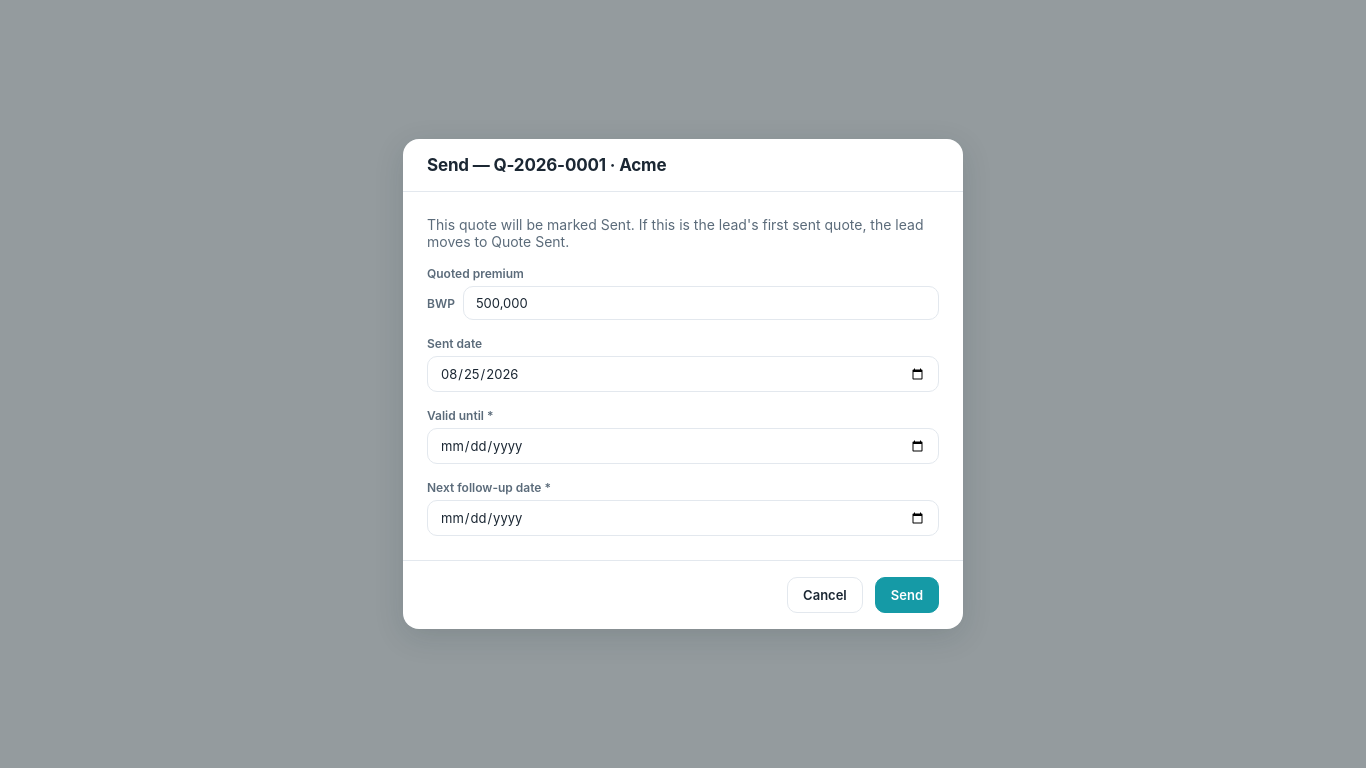
Test: SendQuoteDialog › click_WhenConfirmedWithoutValidUntilOrNextFollowUp_ShouldShowInlineErrorsAndNotConfirm
Click the button with test id "dialog-primary-button": {"x": 907, "y": 595} top-left (875, 577), bottom-right (939, 613)
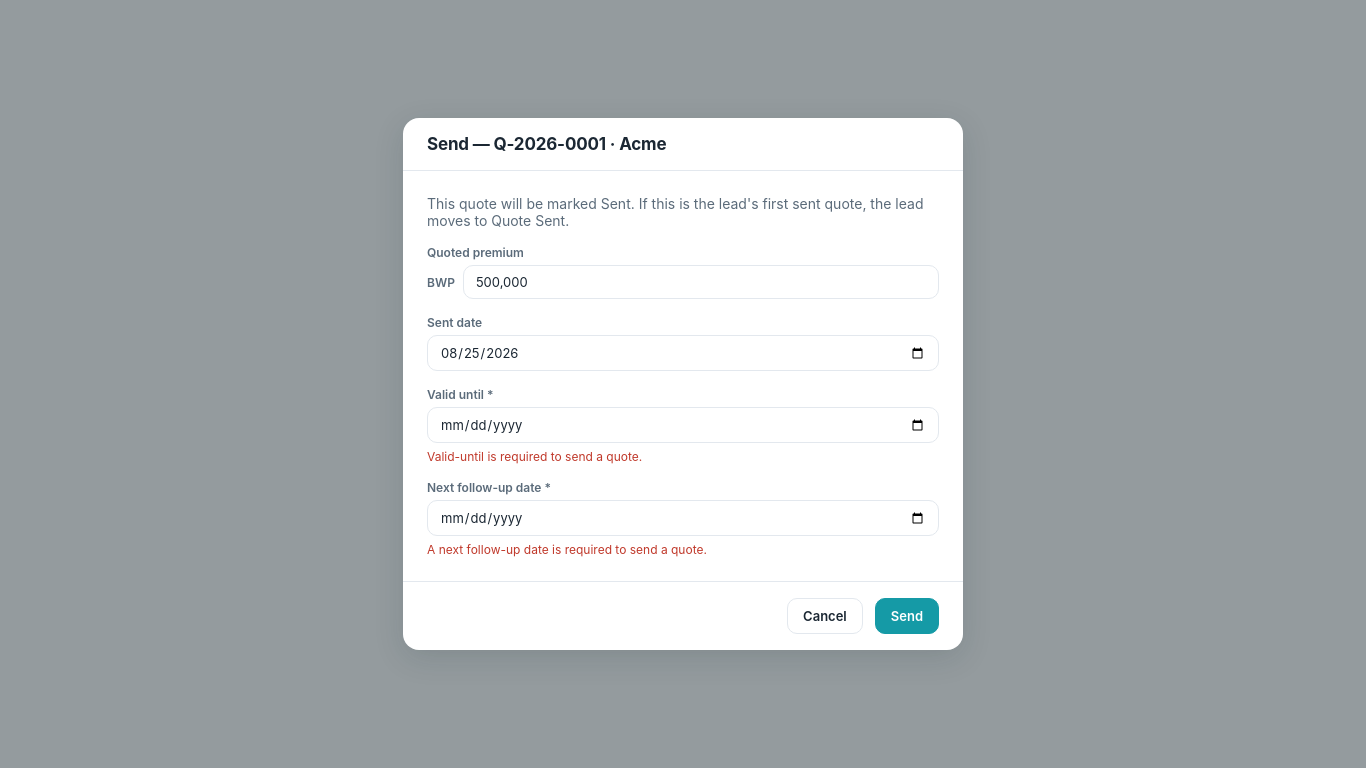
Now the message with test id "field-error-valid-until" reads "Valid-until is required to send a quote.", box top-left (427, 449), bottom-right (642, 464)
Now the message with test id "field-error-next-follow-up" reads "A next follow-up date is required to send a quote.", box top-left (427, 542), bottom-right (707, 557)
